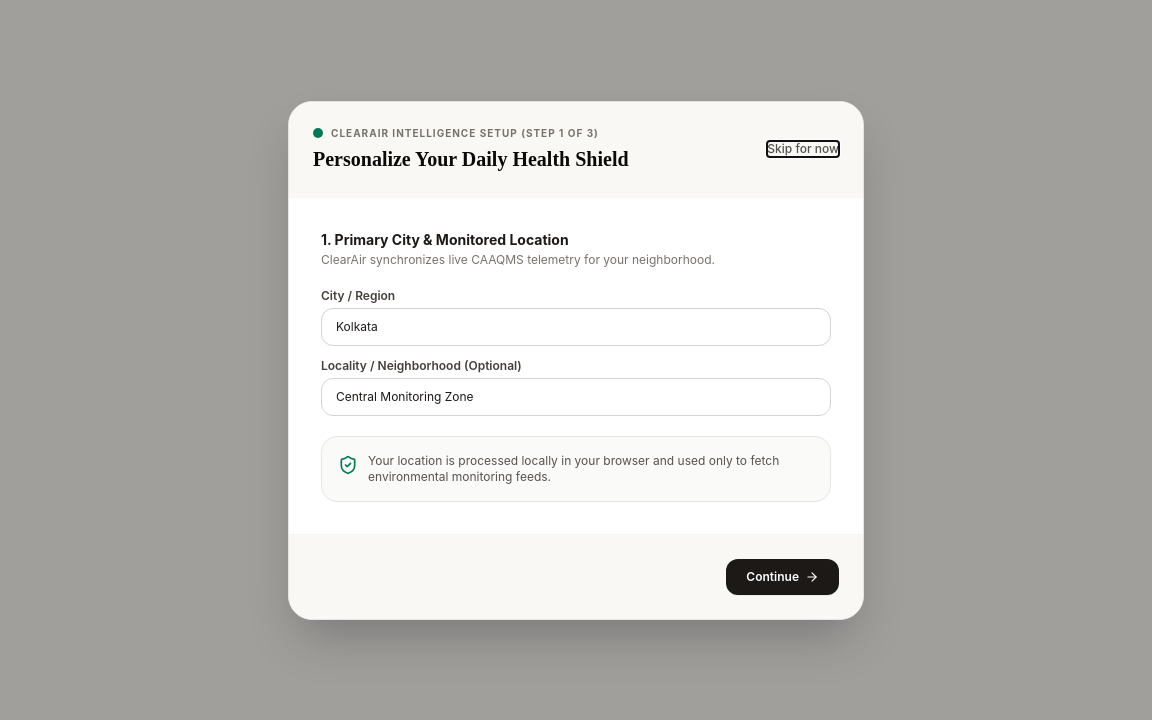
Scenario: OnboardingFlow Component › progresses through all 3 steps and activates intelligence
Later steps or results of the test are not shown.
Expected: the text "ClearAir Intelligence Setup (Step 1 of 3)" is shown, x1=331 y1=126 x2=599 y2=140
Click the button with aria-label "Continue to next step": (783, 576) x1=726 y1=558 x2=839 y2=594
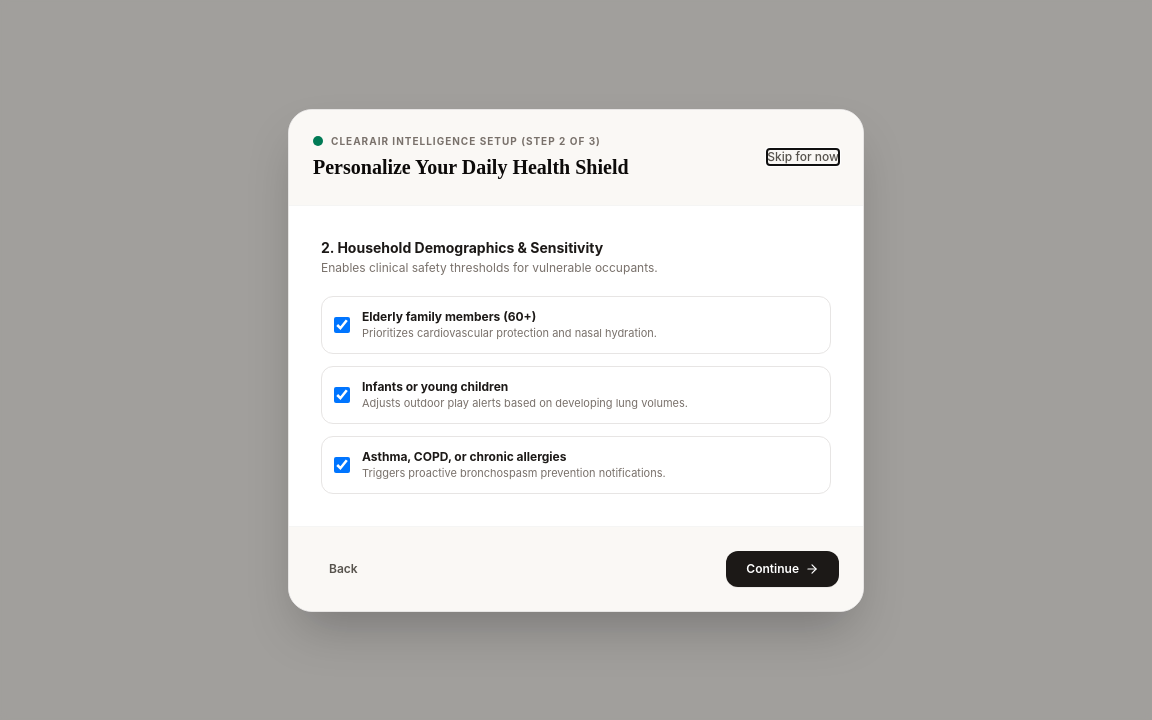
Expected: the text "ClearAir Intelligence Setup (Step 2 of 3)" is shown, x1=331 y1=134 x2=601 y2=148
Click the button with aria-label "Go back to previous setup step": (343, 568) x1=313 y1=552 x2=374 y2=584
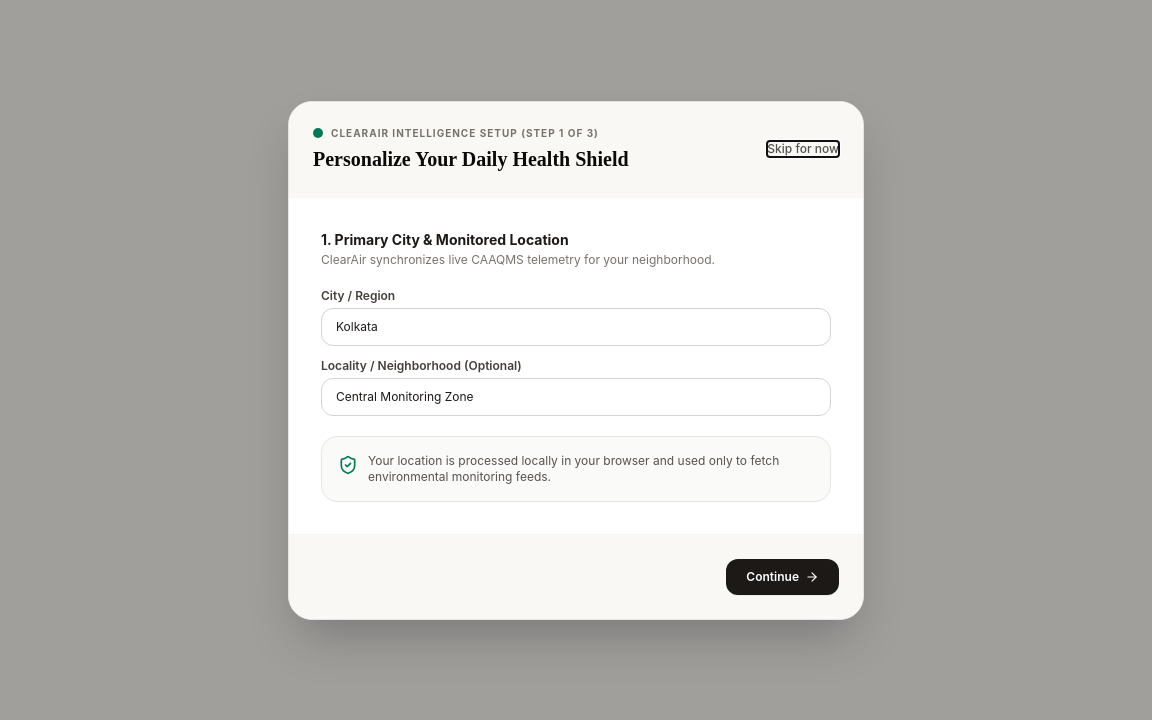
Expected: the text "ClearAir Intelligence Setup (Step 1 of 3)" is shown, x1=331 y1=126 x2=599 y2=140
Click the button with aria-label "Continue to next step": (783, 576) x1=726 y1=558 x2=839 y2=594
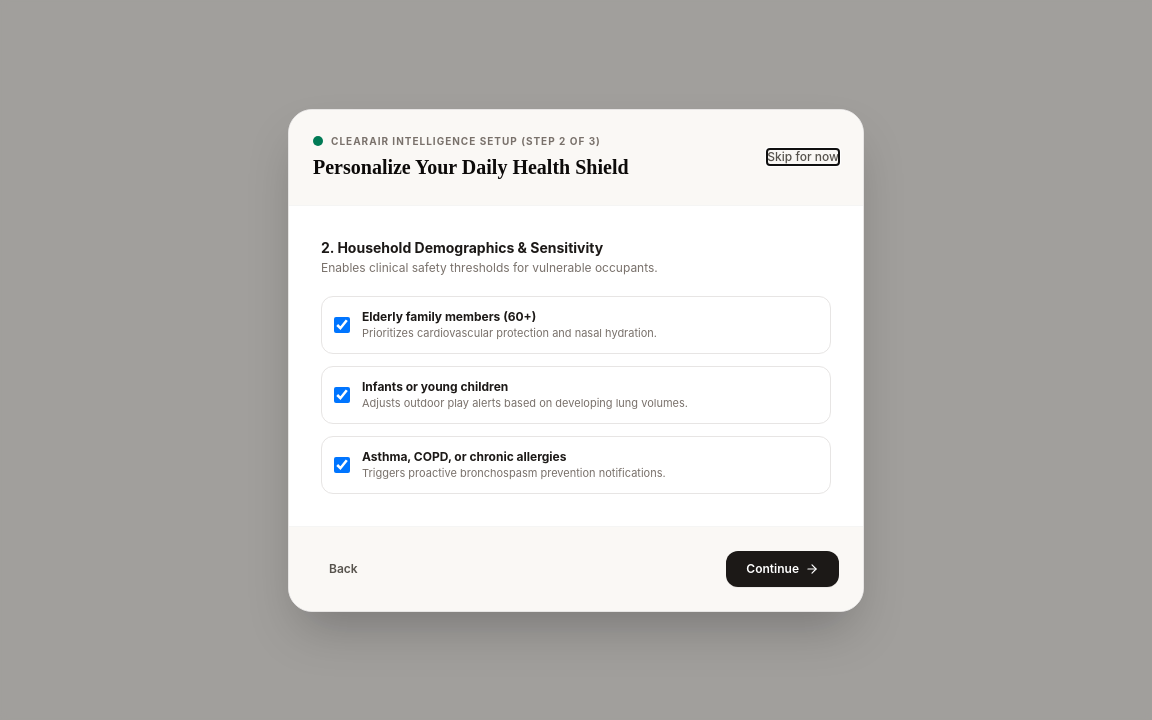
Click the button with aria-label "Continue to next step": (783, 568) x1=726 y1=550 x2=839 y2=586
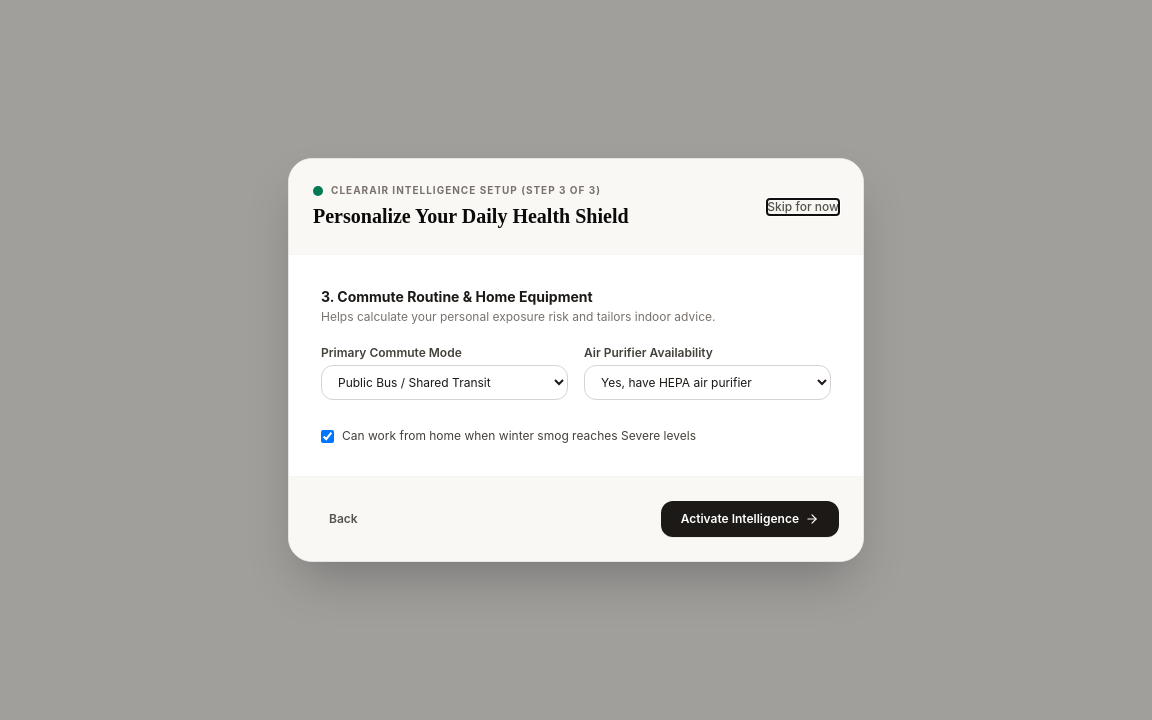
Expected: the text "ClearAir Intelligence Setup (Step 3 of 3)" is shown, x1=331 y1=183 x2=601 y2=198
